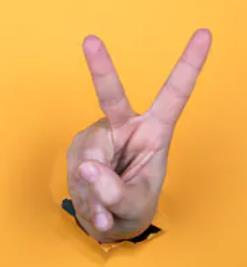front: (63, 23, 215, 247)
